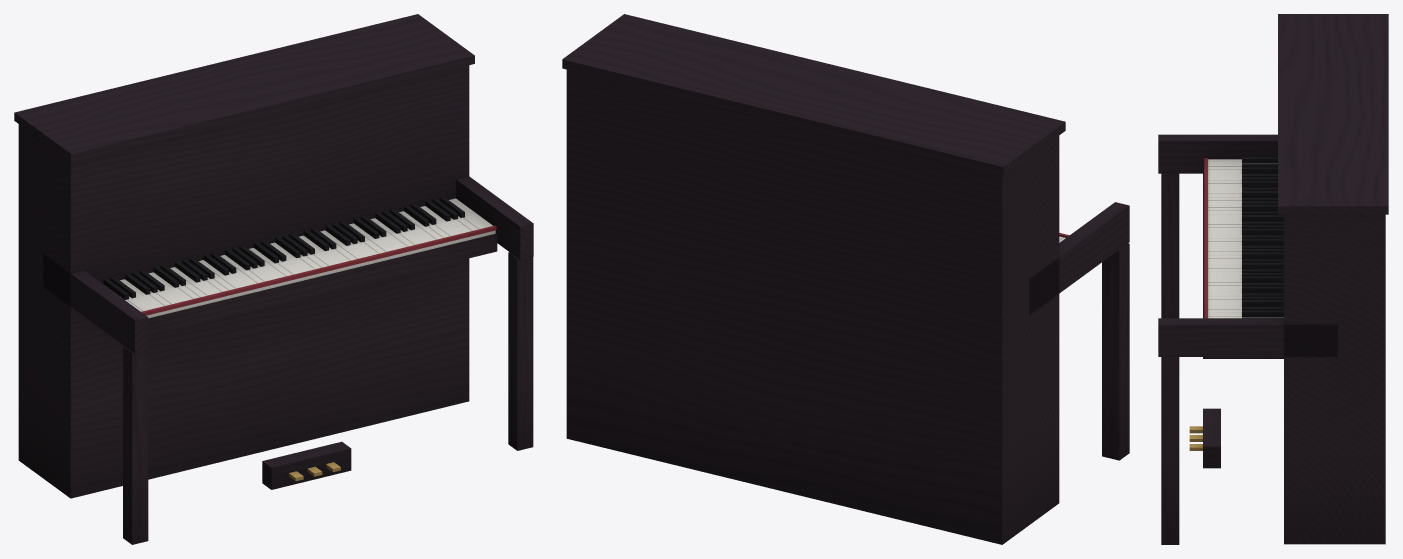
Rendered from piano.glb.
3 renders of one model, left to right at view 1: azimuth 30°, elevation 25°; view 2: azimuth 150°, elevation 25°; view 3: azimuth 270°, elevation 25°, orthographic. The views are drawn at different scales.
Parts seen in each view (by area): view 1: piano; view 2: piano; view 3: piano.
Boxes of the visible parts, x1,y1,x2,y2 form: piano: (14, 14, 533, 544); piano: (562, 14, 1129, 544); piano: (1158, 14, 1388, 544).
Size of the model in its own units: 1.52 by 1.25 by 0.77.
5 materials, 5 textured.
